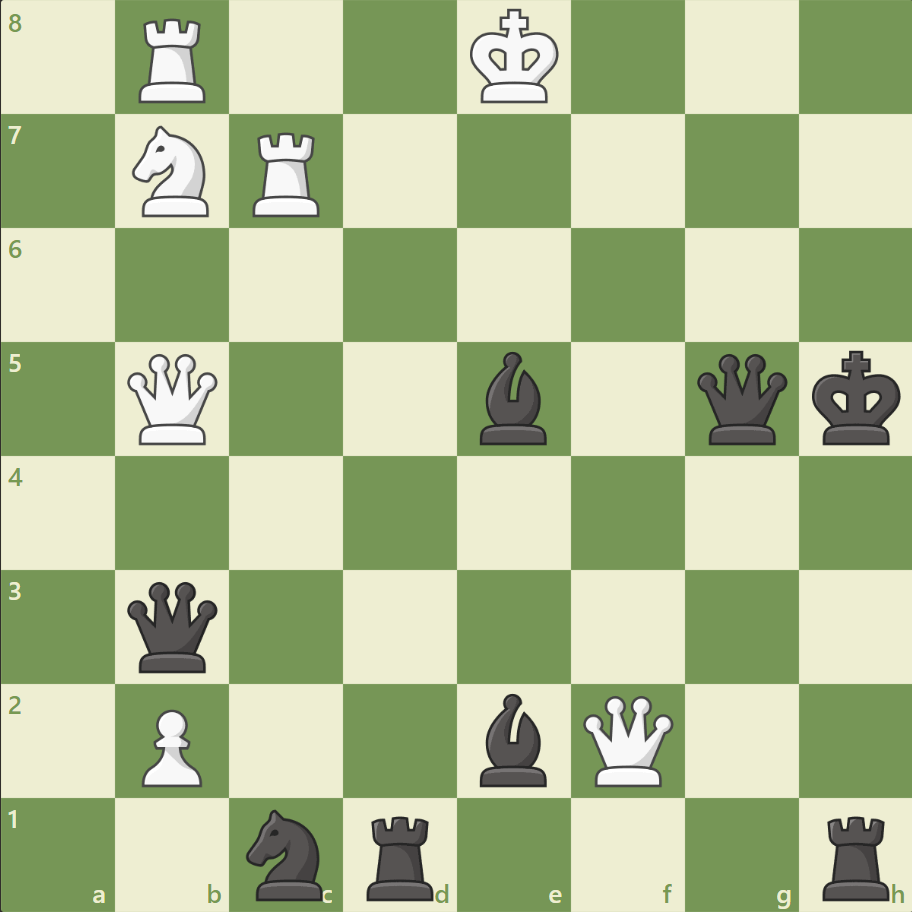K: (465, 4, 565, 112)
N: (124, 121, 222, 223)
P: (133, 700, 208, 791)
Q: (124, 349, 223, 449), (578, 690, 677, 789)
R: (246, 125, 329, 222), (133, 12, 215, 109)
b: (471, 687, 555, 790), (471, 347, 555, 449)
k: (806, 344, 906, 452)
n: (238, 802, 335, 904)
q: (691, 349, 790, 449), (124, 576, 223, 676)
r: (814, 806, 897, 904), (360, 806, 442, 904)
